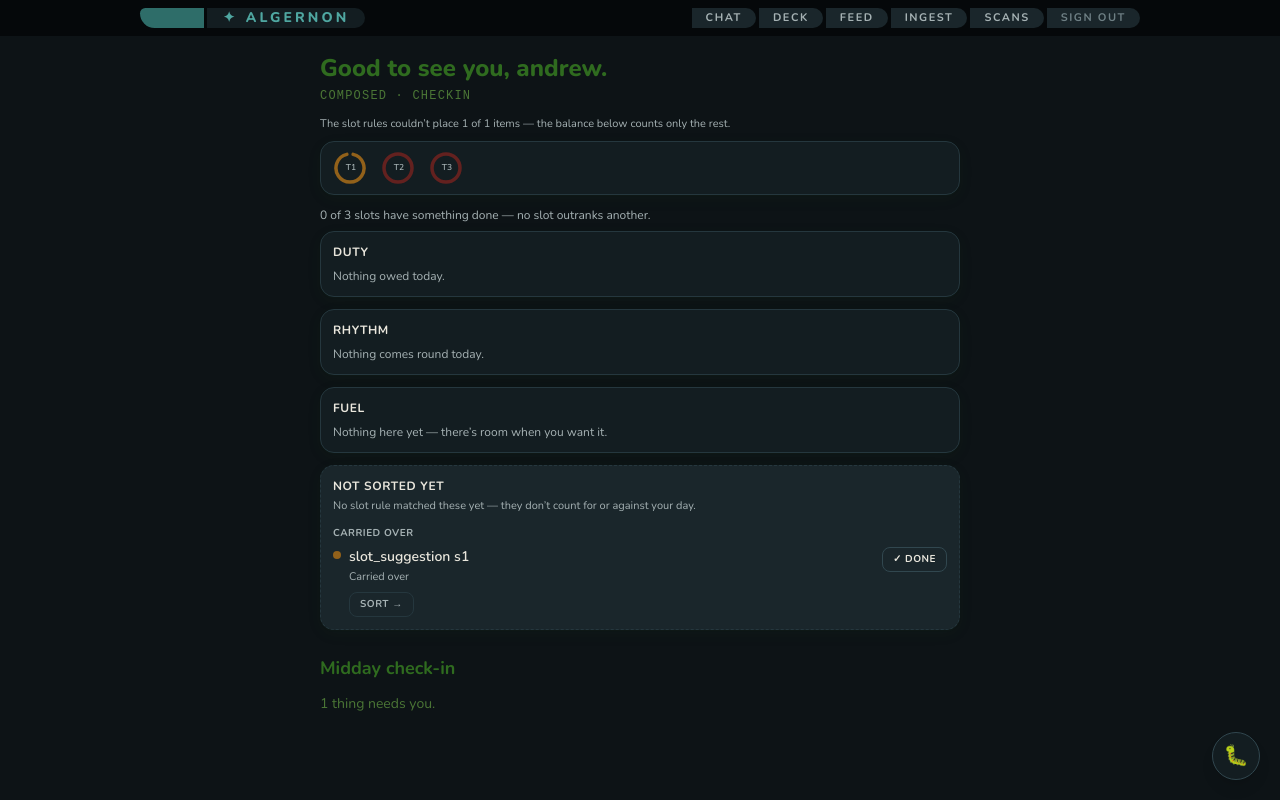
Test: HomePage composer — a rings completion moves needs-you in the SAME render › the rings themselves still flip green — the hoist did not cost the ring its state
The image size is (1280, 800).
Check: the element with test id "rings-header" is shown, box [320,140,960,194]
Click the button with test id "ring-1".
click(351, 168)  # box [333,150,369,186]
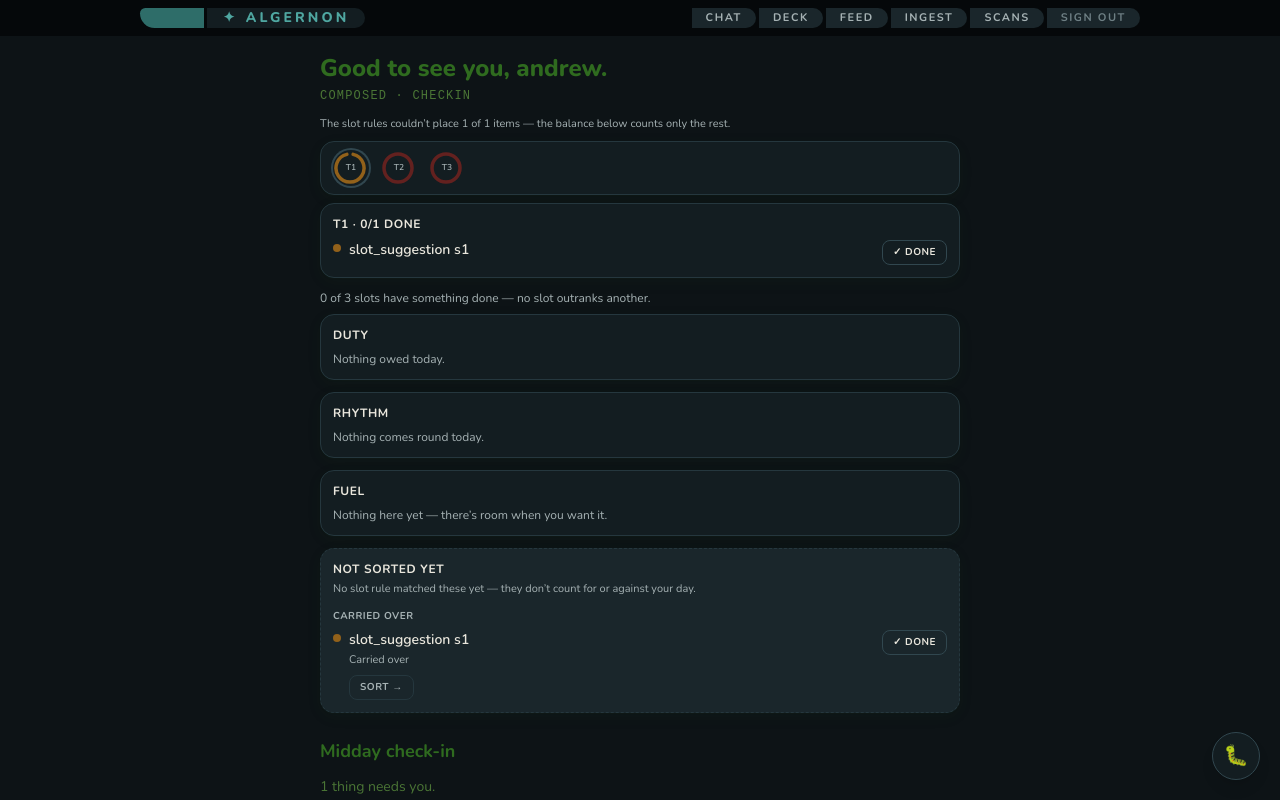
Click the button with test id "ring-complete".
click(914, 252)  # box [882,240,947,264]
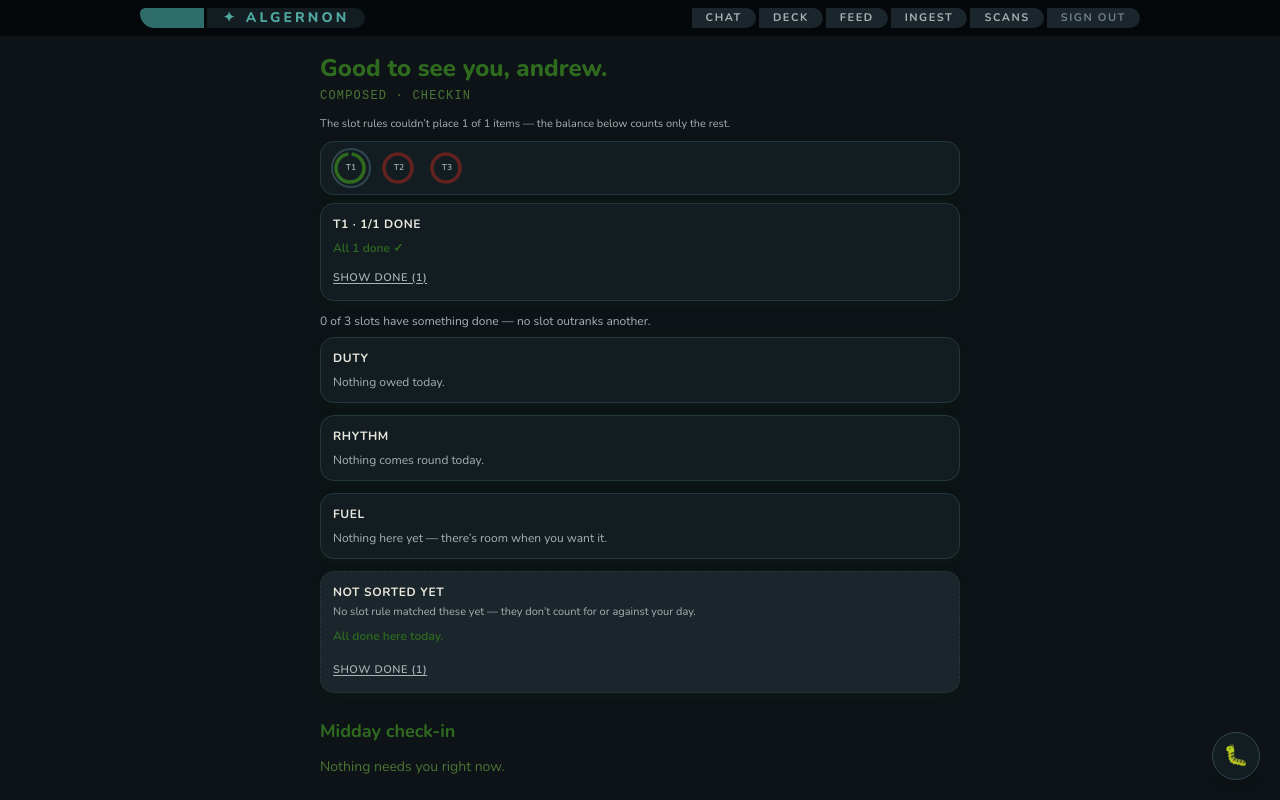
Click the button with test id "ring-show-done".
click(380, 278)  # box [333,270,427,286]
(page scrolled)
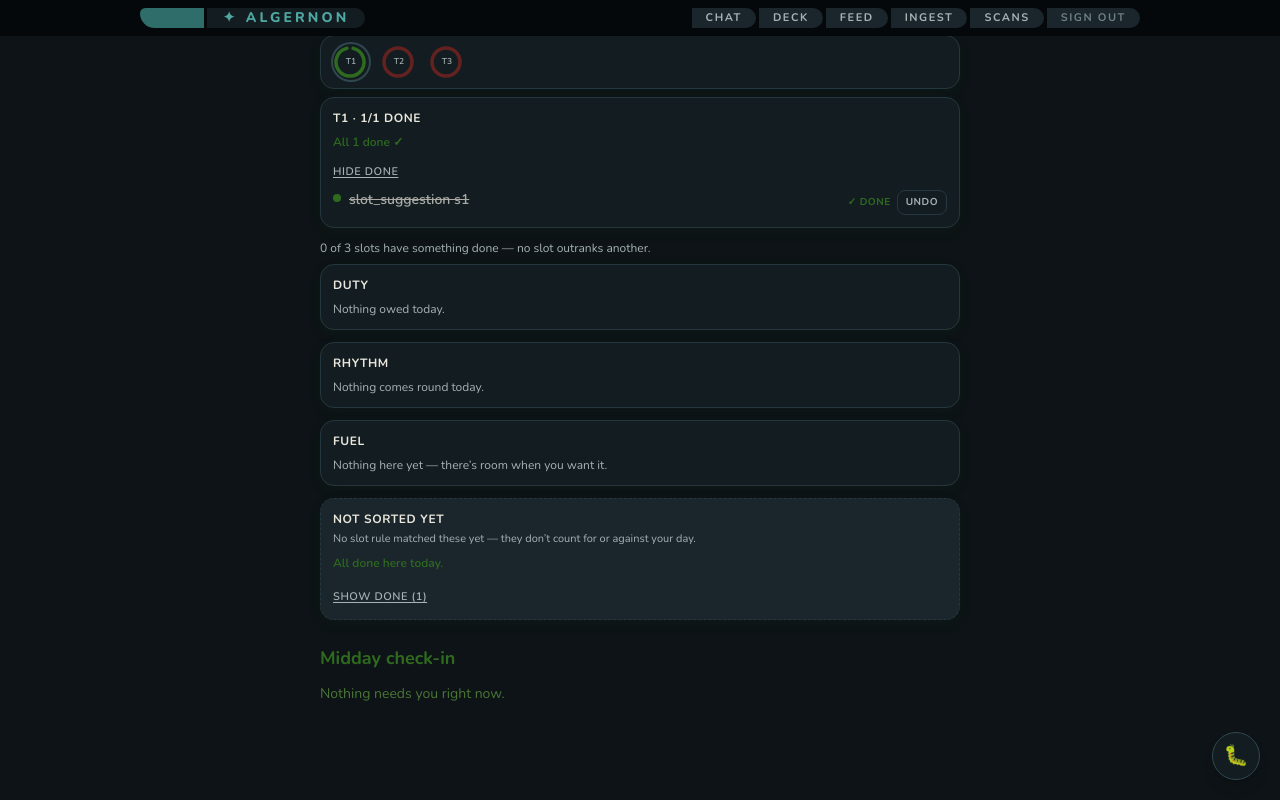
Check: the text with test id "composer-needs-you" shows "Nothing needs you", box [320,684,505,703]
Check: the text "✓ Done" is shown, box [848,194,891,210]
